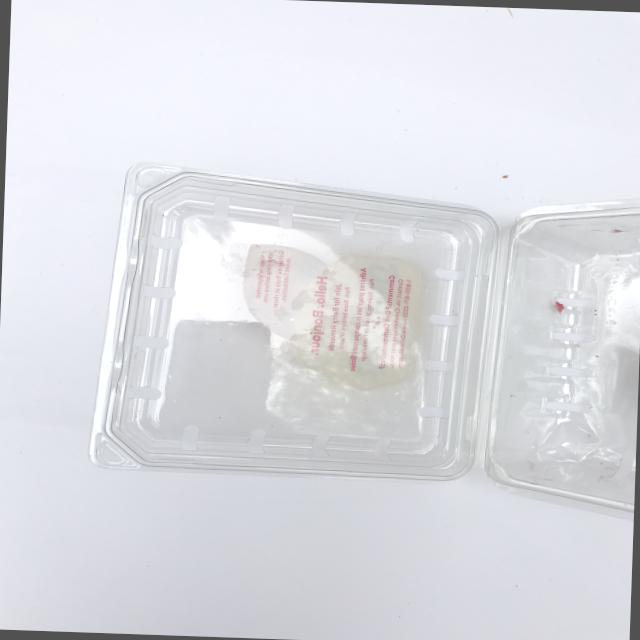Plastic: (76, 132, 640, 522)
